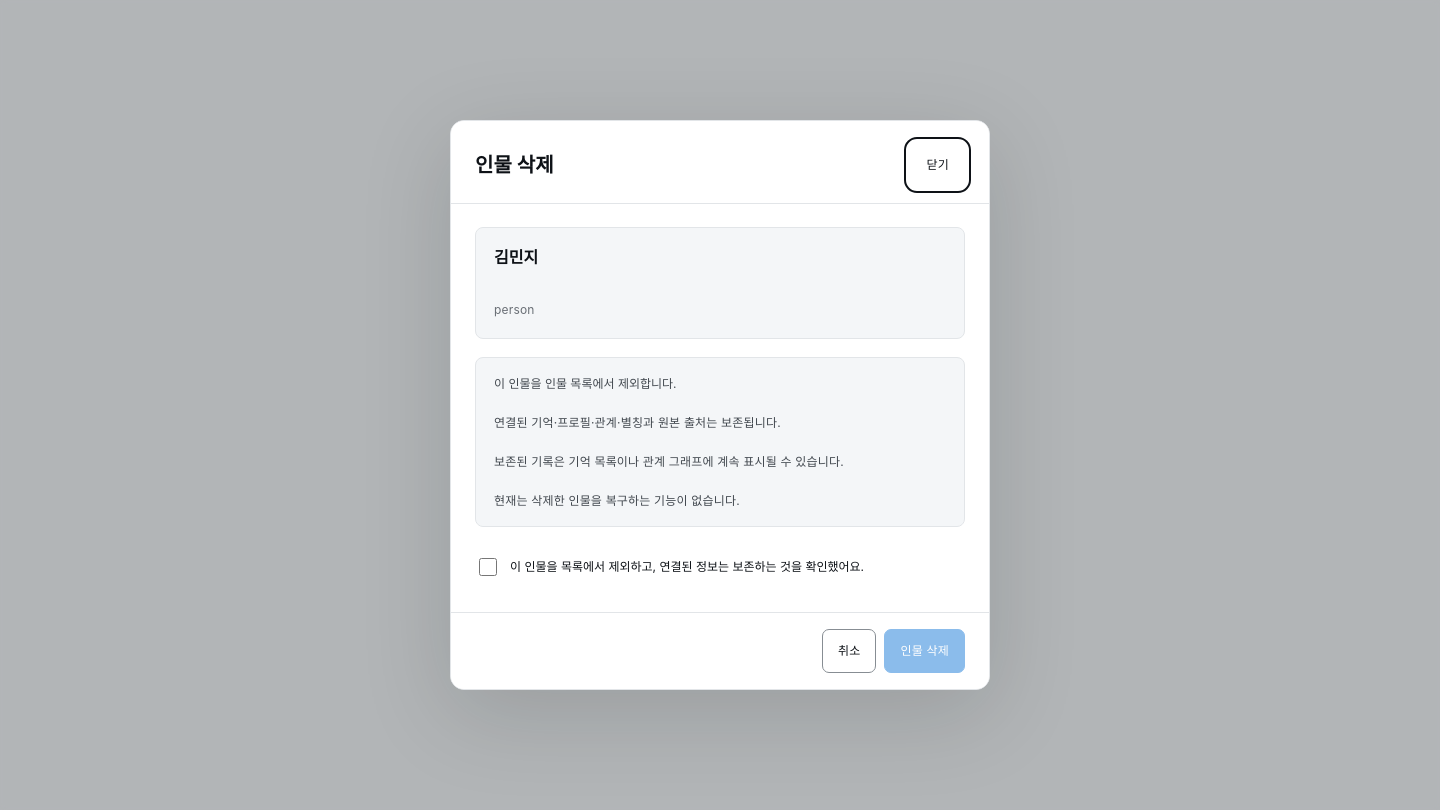
Test case: 인물 삭제 › 결과 조회도 실패하면 완료로 간주하지 않고 원래 오류와 확인 상태를 유지한다
This screenshot has width=1440, height=810.
Step 1. Click the checkbox → click(488, 567), box [479,558,497,576]
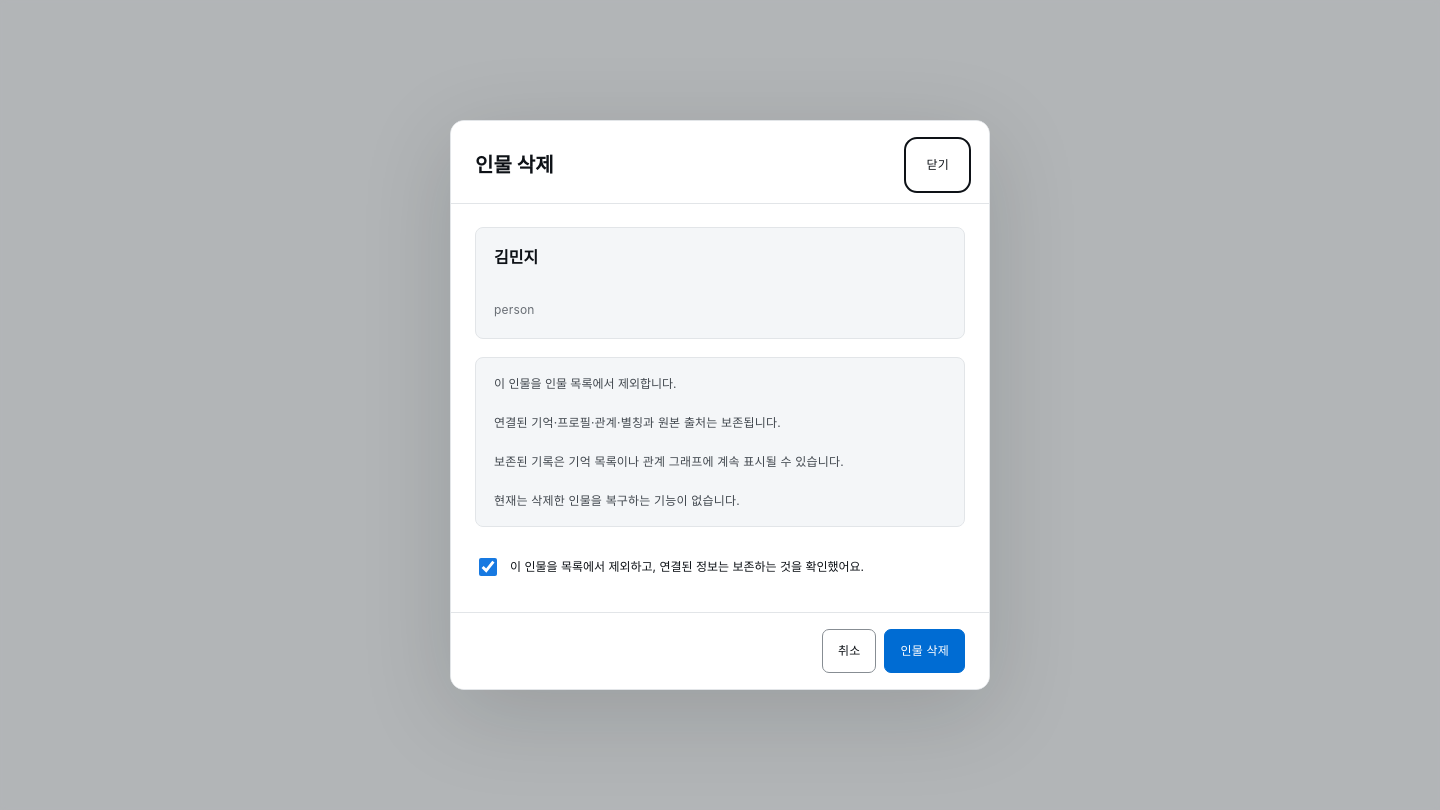
Step 2. Click the button "인물 삭제" → click(925, 651), box [884,629,965,673]
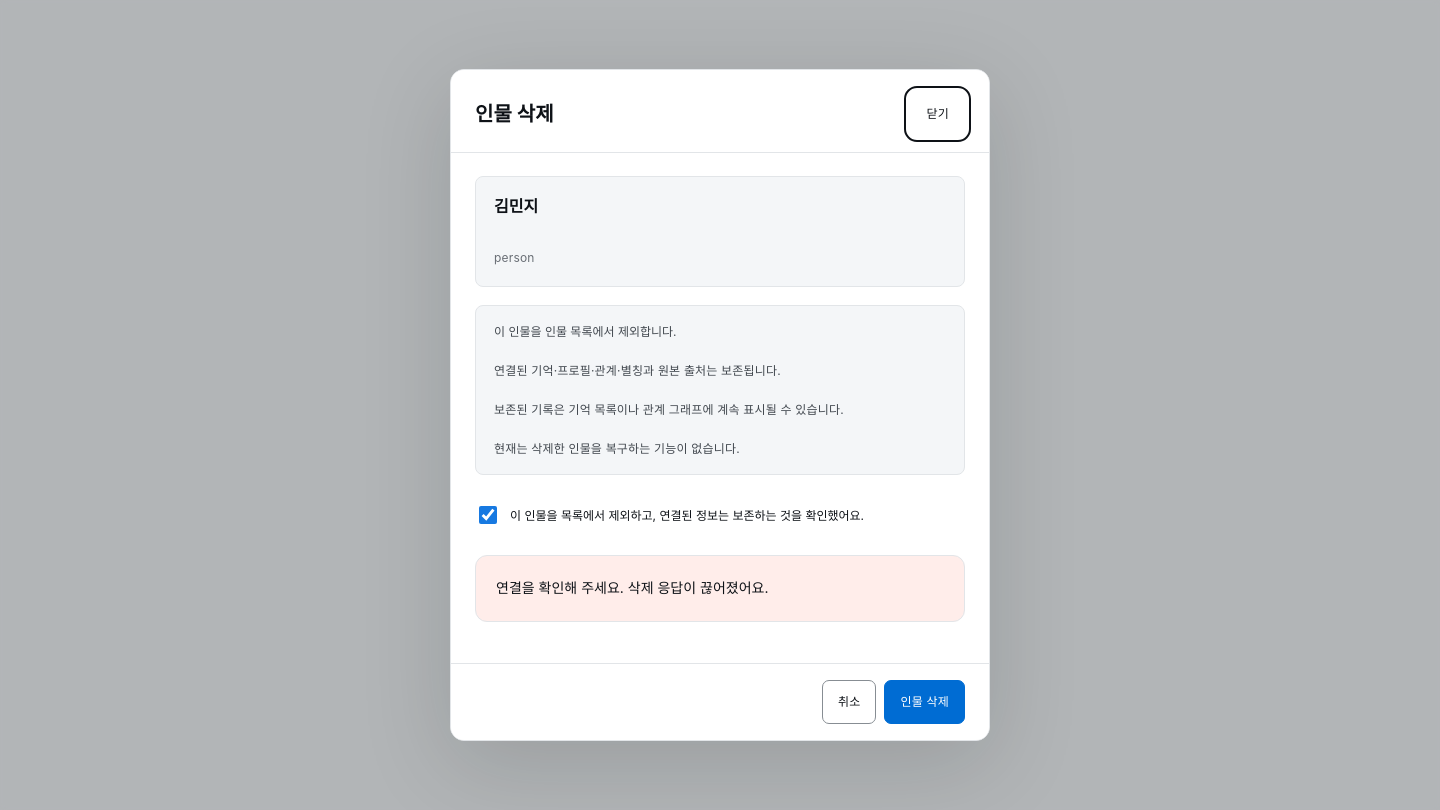
Expected: the checkbox is checked, [479,506,497,524]
Expected: the button "인물 삭제" is enabled, [884,680,965,724]
Expected: the message shows "삭제 응답이 끊어졌어요.", [496,579,768,596]
